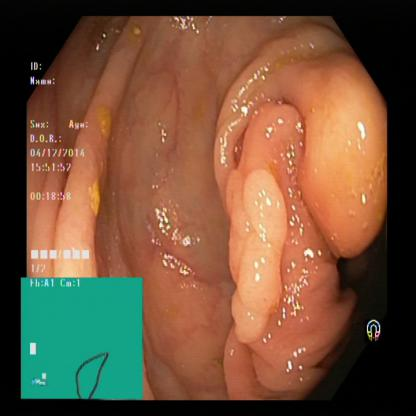Labels: (27, 58, 100, 279), (21, 276, 142, 402), (360, 309, 384, 355)
Polyps: (303, 66, 394, 254), (232, 166, 282, 350), (244, 86, 300, 166)
